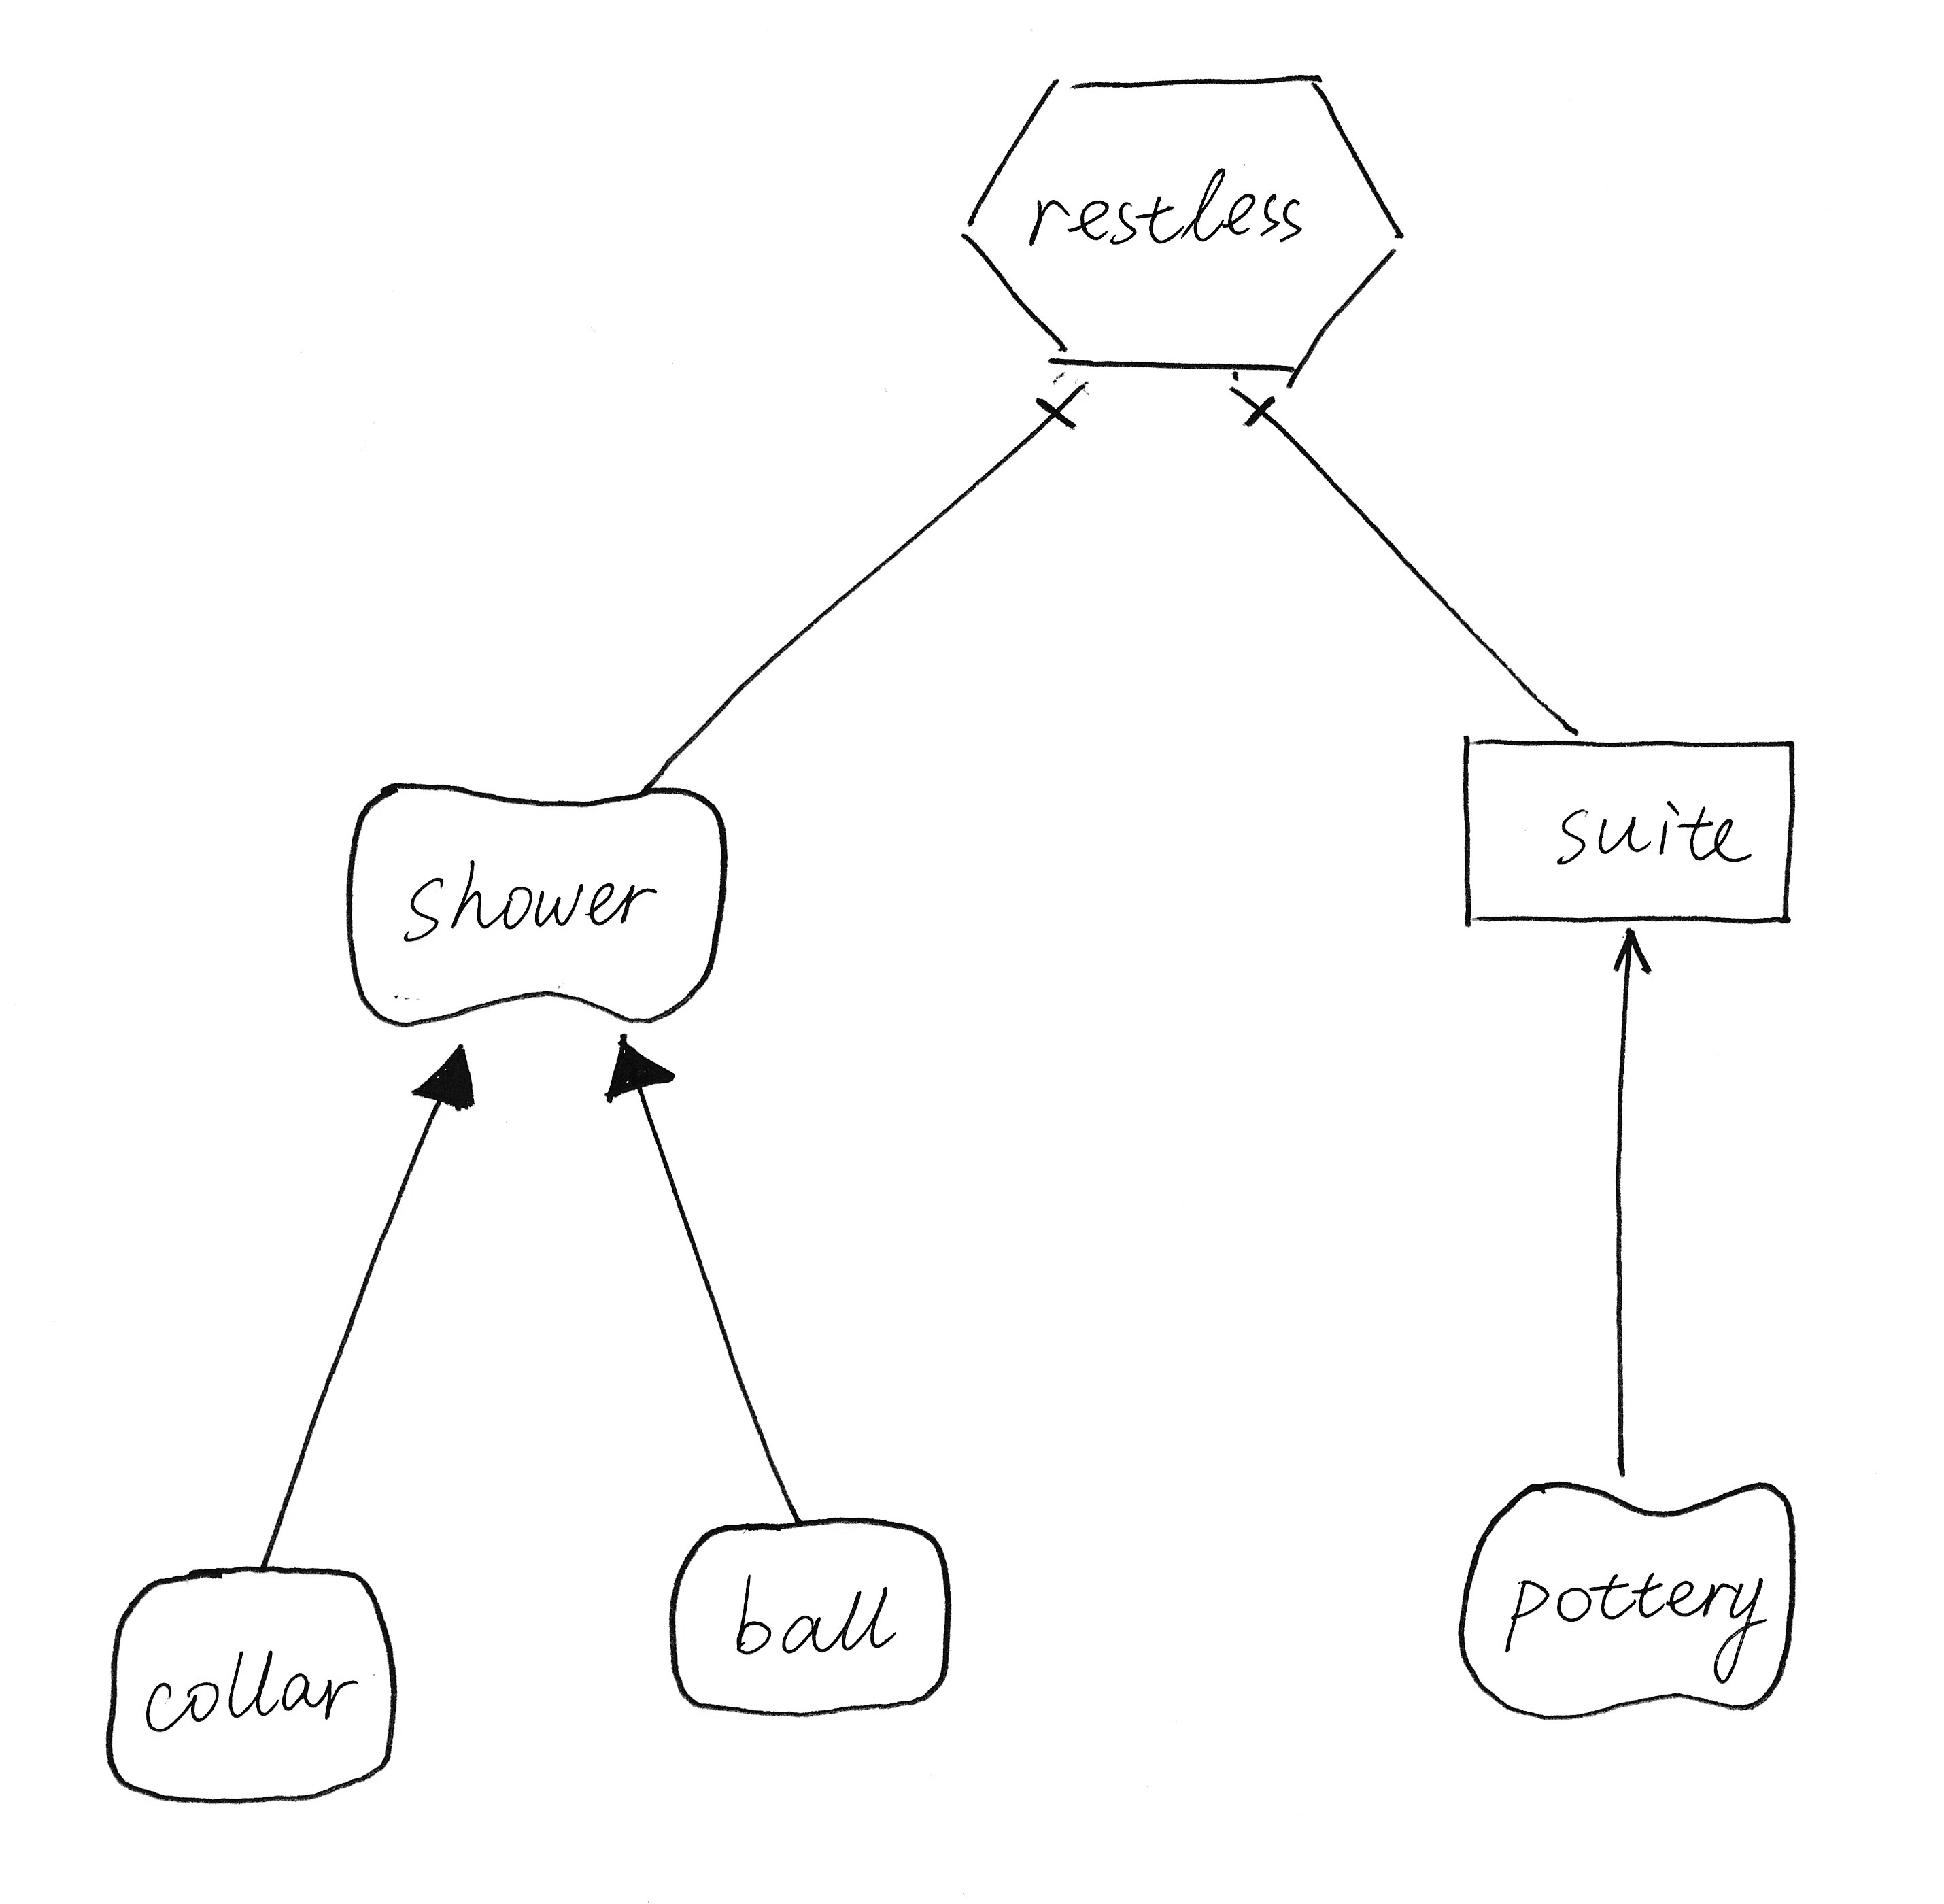and: (1013, 371, 1102, 460), (1217, 378, 1301, 448)
arrow: (1595, 917, 1663, 992)
goal: (85, 1543, 422, 1815), (650, 1503, 966, 1733)
or: (591, 1022, 694, 1116), (398, 1027, 492, 1125)
quality: (319, 748, 744, 1036), (1435, 1459, 1827, 1735)
resource: (1444, 708, 1817, 954)
task: (940, 51, 1431, 396)
